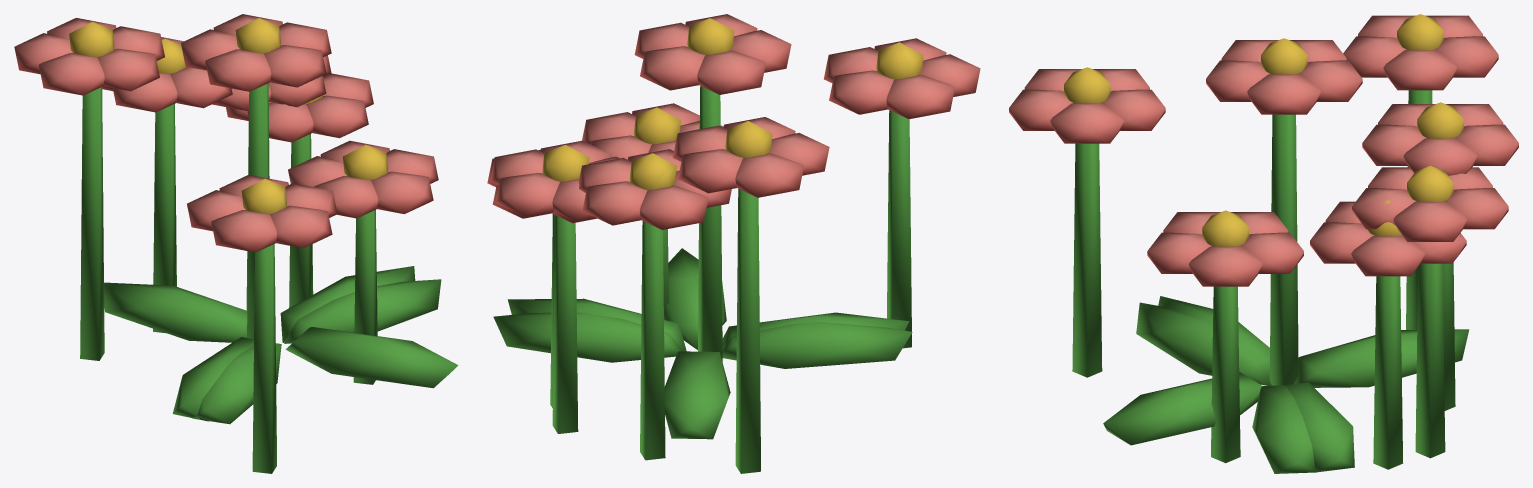
Rendered from flowers_red.glb.
3 renders of one model, left to right at view 1: azimuth 30°, elevation 25°; view 2: azimuth 150°, elevation 25°; view 3: azimuth 270°, elevation 25°, orthographic. The views are drawn at different scales.
Parts seen in each view (by area): view 1: Flowers; view 2: Flowers; view 3: Flowers.
Part boxes in pixels (left/top/right/bottom): Flowers: left=14, top=14, right=458, bottom=473; Flowers: left=487, top=14, right=980, bottom=473; Flowers: left=1009, top=14, right=1518, bottom=473.
Size of the model in its own units: 0.372 by 0.3649 by 0.4458.
